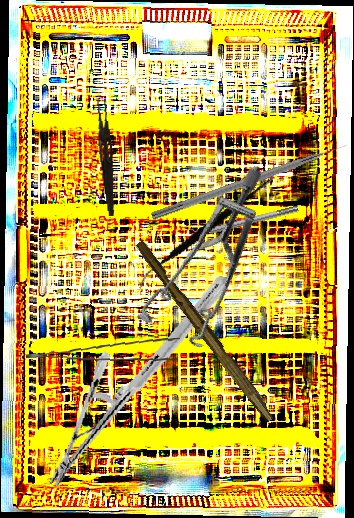Dressing Forceps: (92, 98, 121, 217)
Fixation Ring: (185, 200, 301, 246)
Hook Surgical: (150, 141, 350, 223)
Needle Holder: (48, 251, 231, 511)
Scalpel Handle: (131, 238, 280, 424)
Spatula Surgical: (136, 134, 278, 318)
Speculum: (101, 165, 321, 367)
Tissue Forceps: (26, 327, 180, 369)
